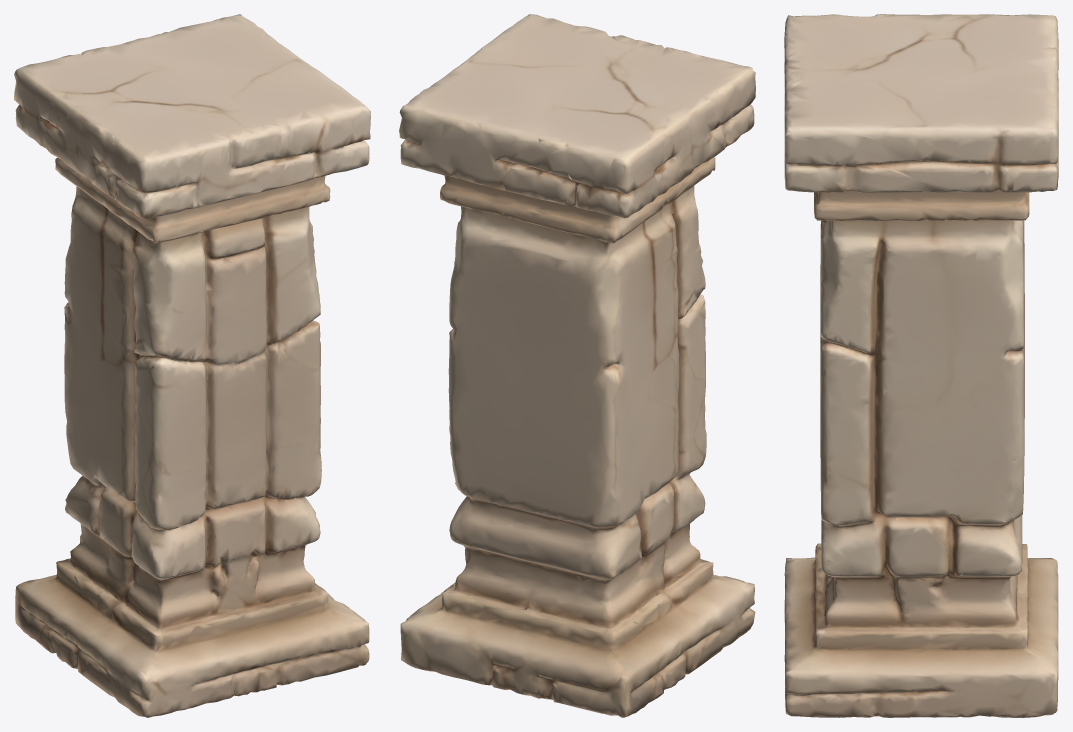
Rendered from pillar.glb.
3 renders of one model, left to right at view 1: azimuth 30°, elevation 25°; view 2: azimuth 150°, elevation 25°; view 3: azimuth 270°, elevation 25°, orthographic. The views are drawn at different scales.
Parts seen in each view (by area): view 1: model; view 2: model; view 3: model.
Boxes of the visible parts, x1,y1,x2,y2 form: model: (14,14,370,717); model: (399,14,755,717); model: (784,14,1058,717).
Size of the model in its own units: 0.8183 by 1.9 by 0.803.
1 material, 1 textured.
